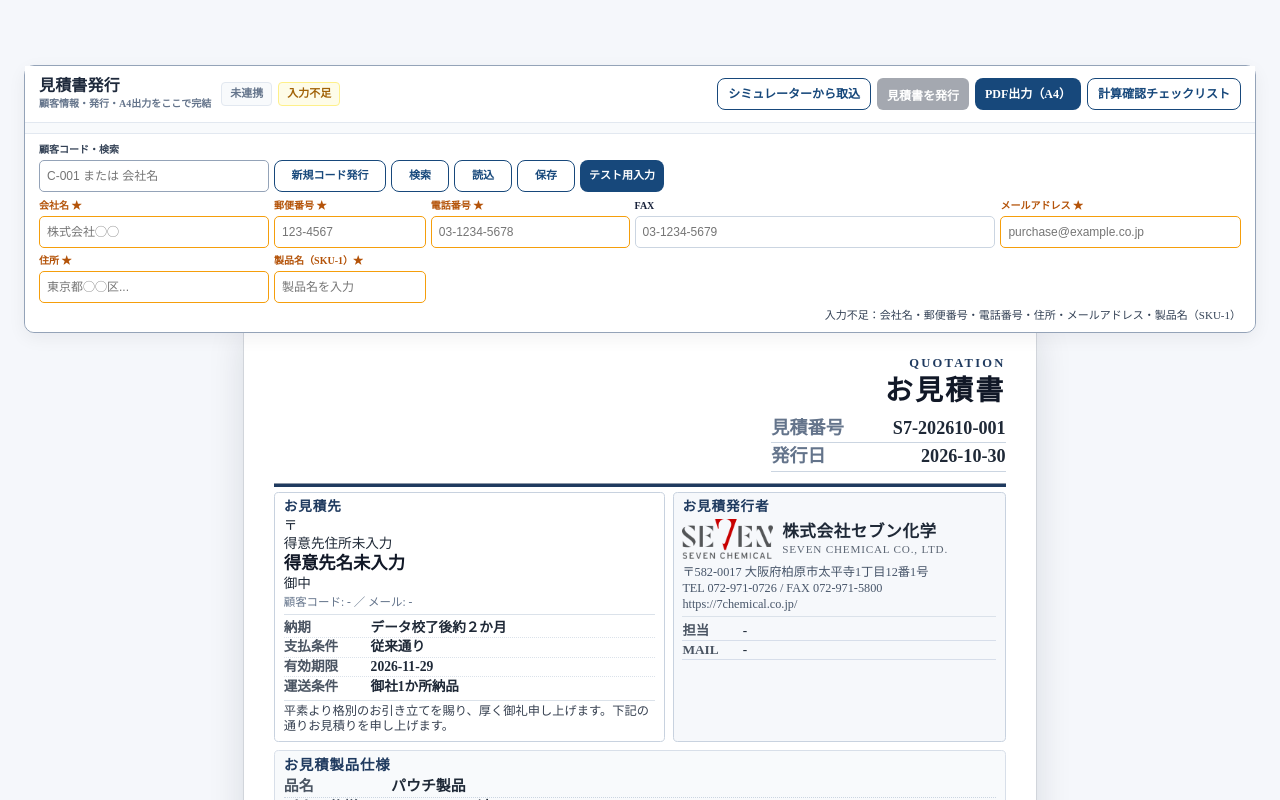
Scenario: quotation issuance canonical PDF › does not regenerate or browser-print when the stored canonical PDF is missing
What coordinates should you click on to do the following:
click the button with test id "fill-test-data"
I would click on:
 (622, 176)
Its box is [580,160,664,192].
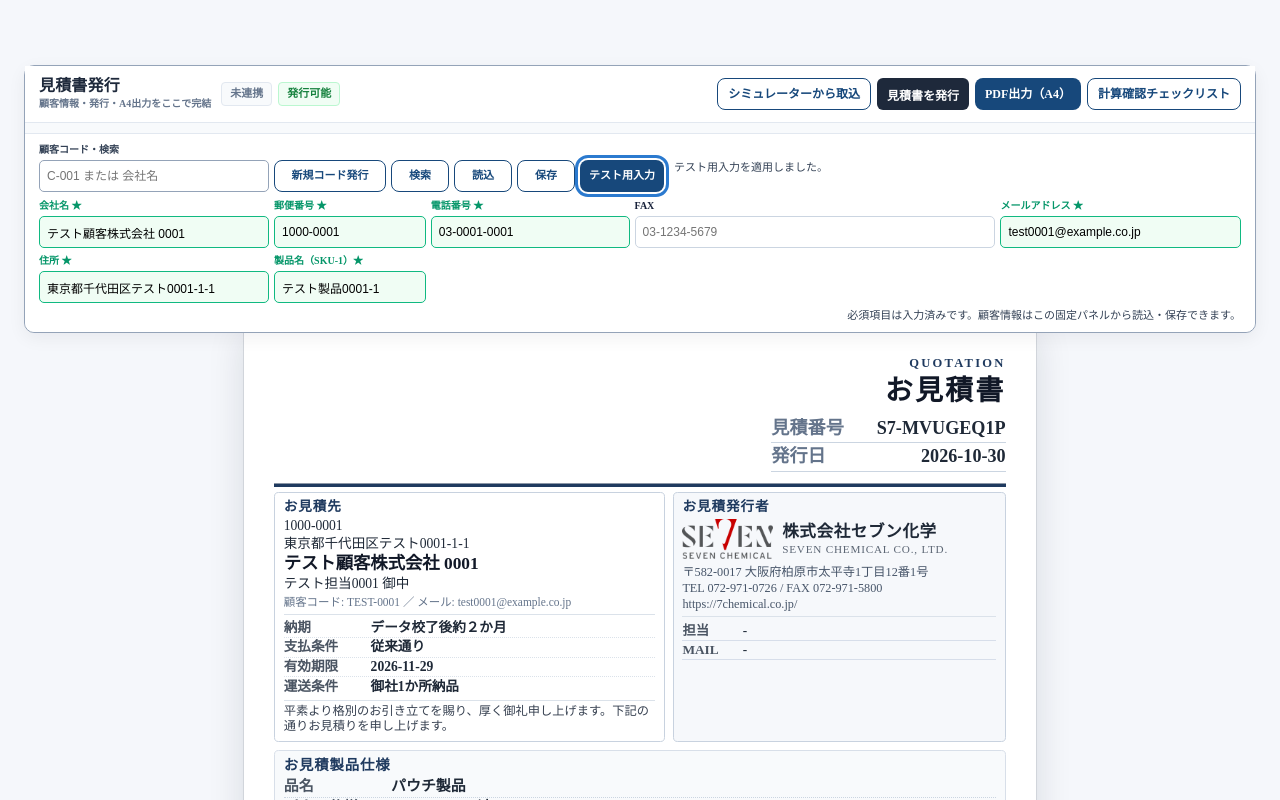
Check: the button with test id "save-history" is enabled
What coordinates should you click on to do the following:
click the button with test id "save-history"
I would click on:
 (923, 94)
Its box is [877,78,969,110].
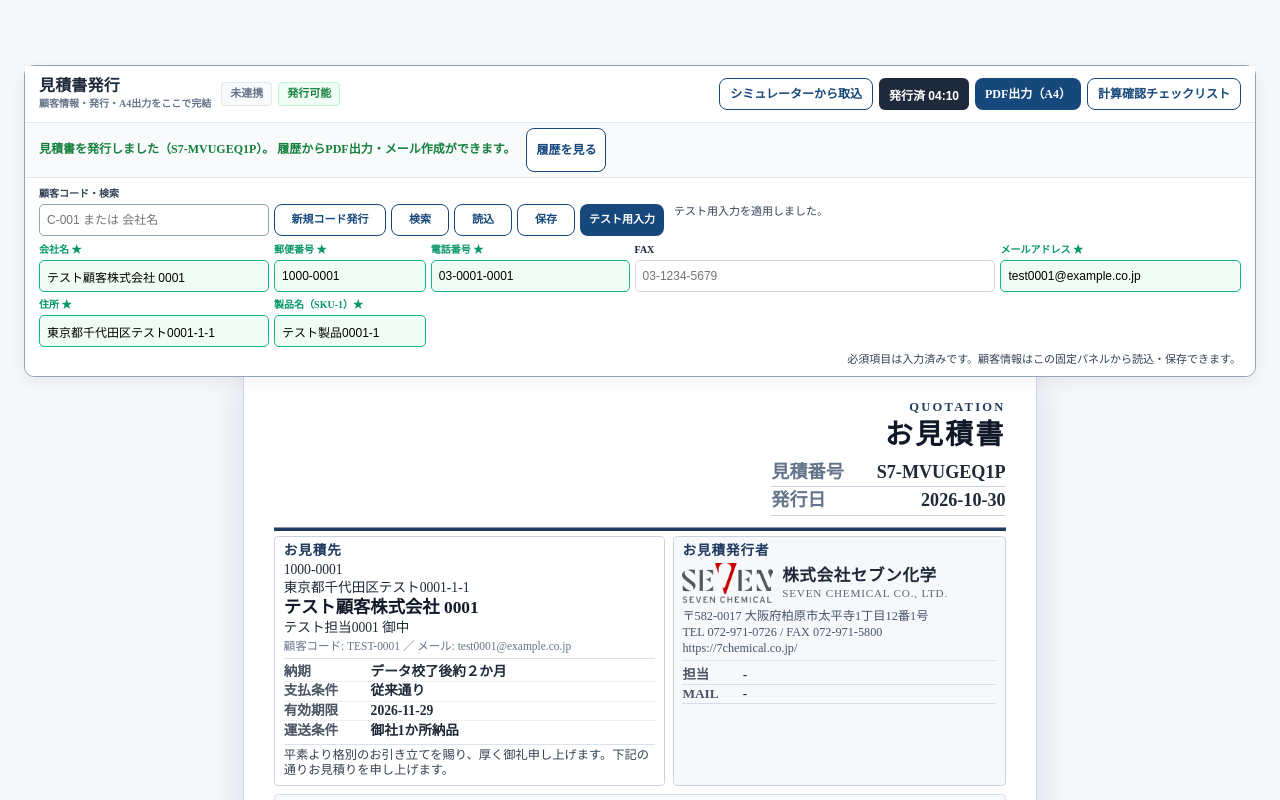
Check: the message with test id "issue-success" is shown, box [39,128,606,172]
Check: the button with test id "save-history" shows "発行済", box [879,78,969,110]
What coordinates should you click on to do the following:
click the button with test id "print-pdf"
I would click on:
 (1028, 94)
Its box is [975,78,1081,110].
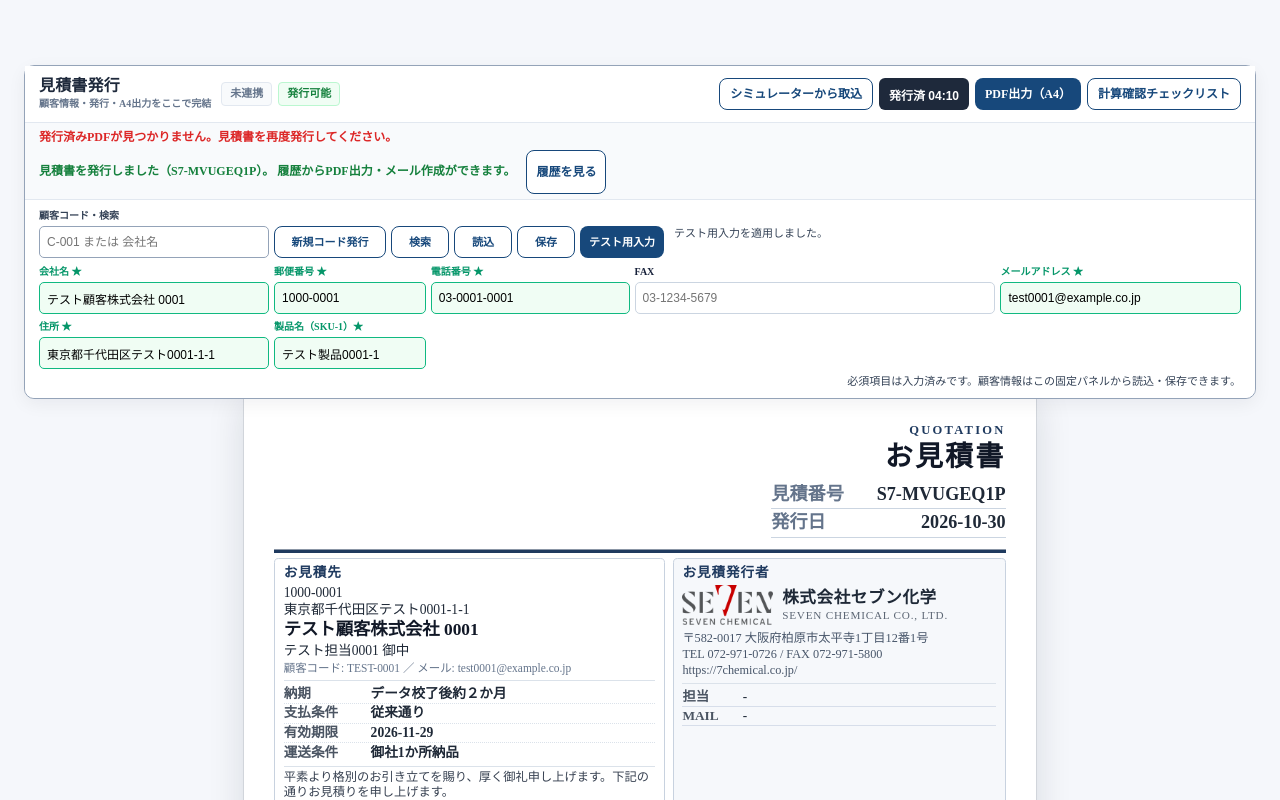
Check: the message with test id "save-error" reads "発行済みPDFが見つかりません。見積書を再度発行してください。", box [39,130,397,144]
